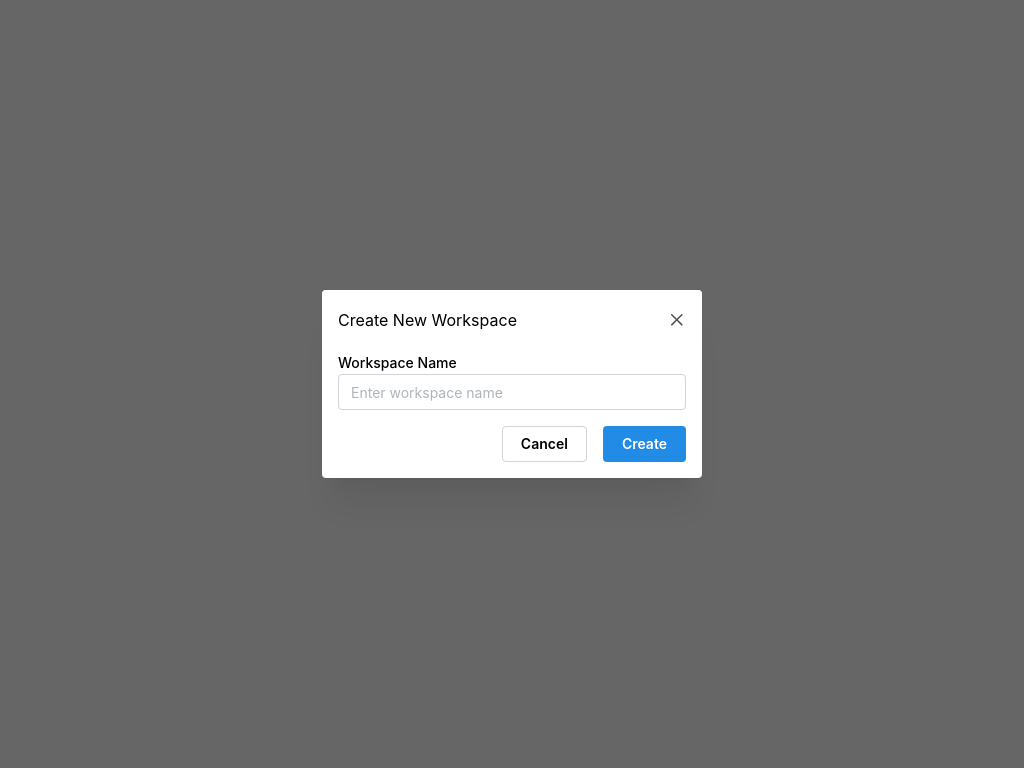
Test: CreateWorkspaceModal › Loading States and UI Behavior › disables form elements and shows loading during workspace creation
Type "loading-test" into the field with test id "workspace-name-input" at (512, 392), box left=338, top=374, right=686, bottom=410
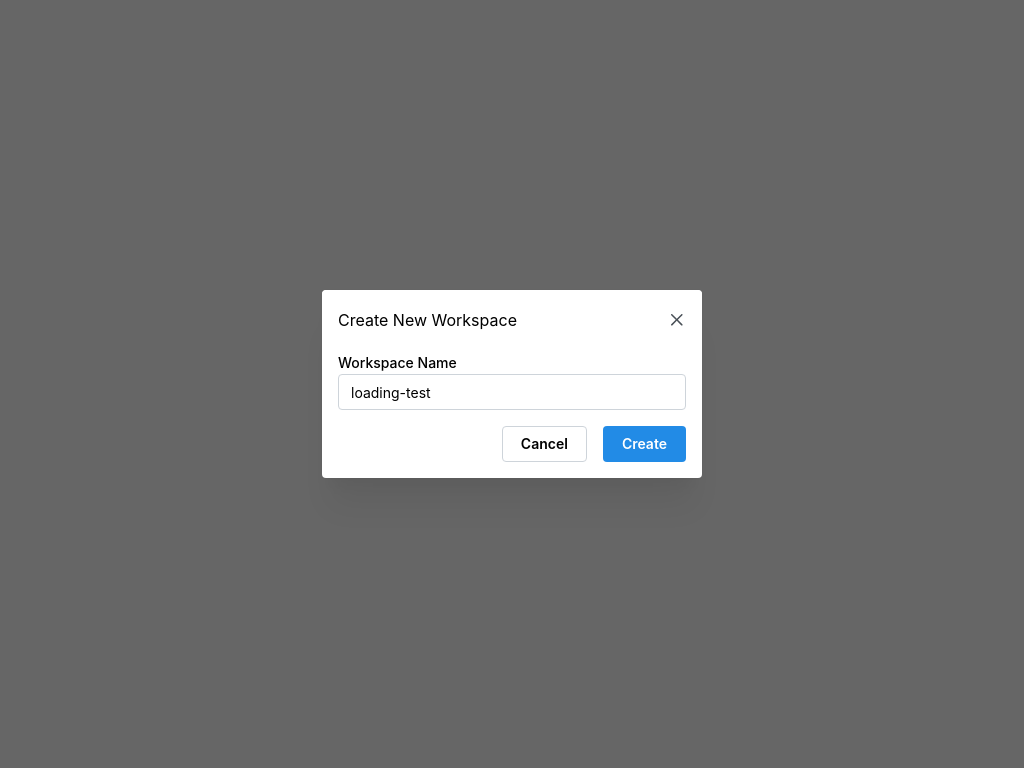
Click the button with test id "confirm-create-workspace-button" at (644, 444), box left=603, top=426, right=686, bottom=462
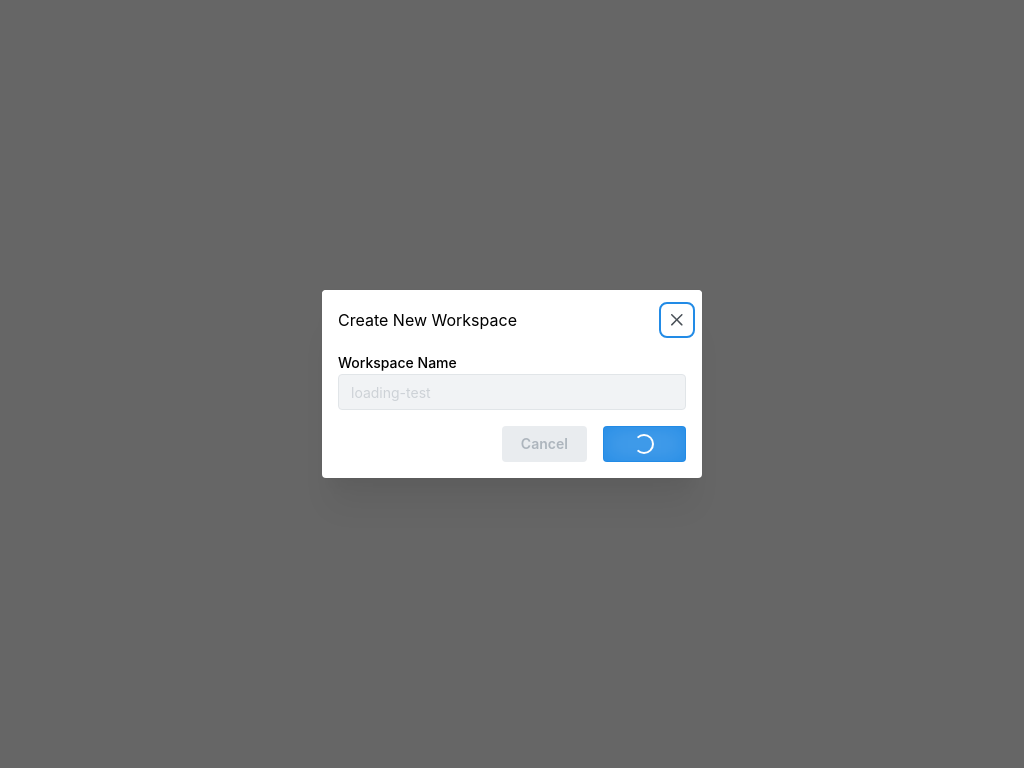
Expected: the field with test id "workspace-name-input" is disabled, left=338, top=374, right=686, bottom=410
Expected: the button with test id "confirm-create-workspace-button" is disabled, left=603, top=426, right=686, bottom=462
Expected: the button with test id "cancel-create-workspace-button" is disabled, left=502, top=426, right=587, bottom=462
